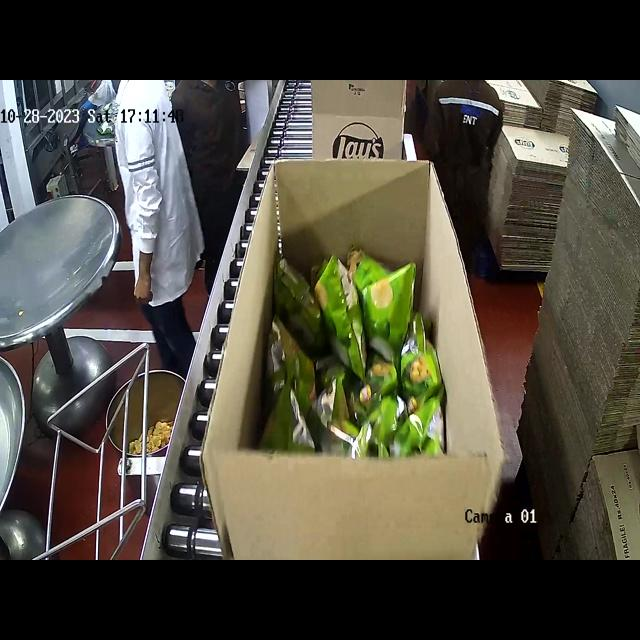yogurt: (258, 246, 446, 458)
